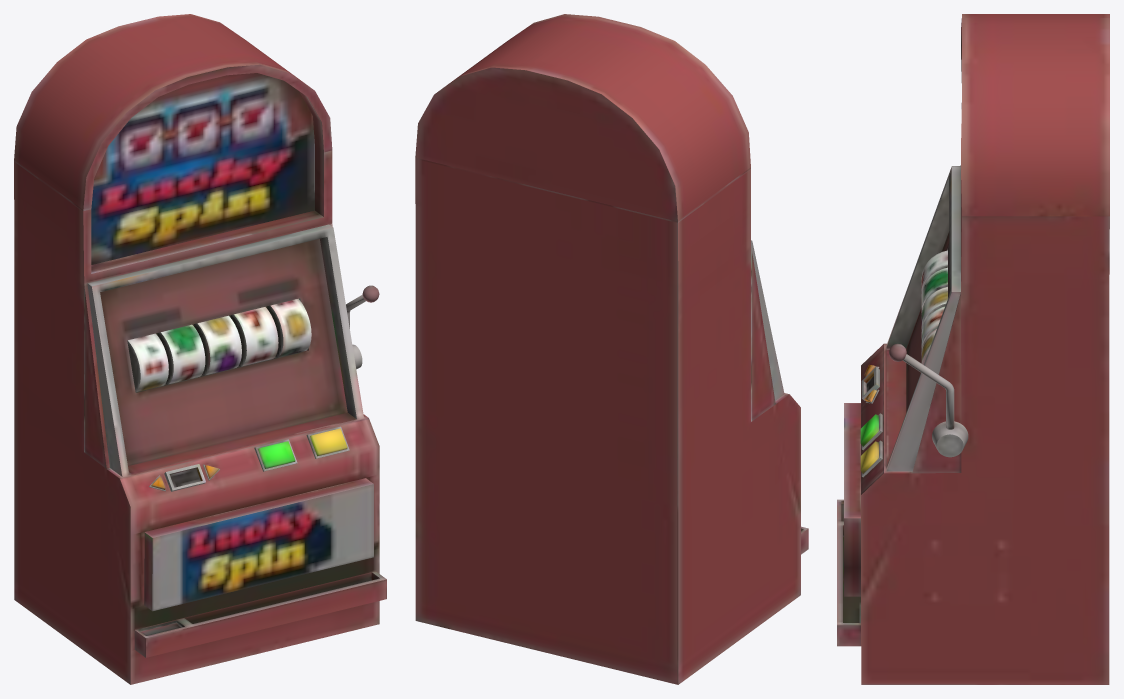
The model's file is tragaperras.glb.
3 views of the same model, side by side, from view 1: azimuth 30°, elevation 25°; view 2: azimuth 150°, elevation 25°; view 3: azimuth 270°, elevation 25° (orthographic). The views are drawn at different scales.
Parts seen in each view (by area): view 1: automat_low; view 2: automat_low; view 3: automat_low.
Part boxes in pixels (x1,y1,x2,y2): automat_low: (14,14,386,684); automat_low: (415,14,808,684); automat_low: (837,14,1109,684).
Bounding box in the file's own units: 0.6639 × 1.3 × 0.5502.
1 material, 1 textured.
